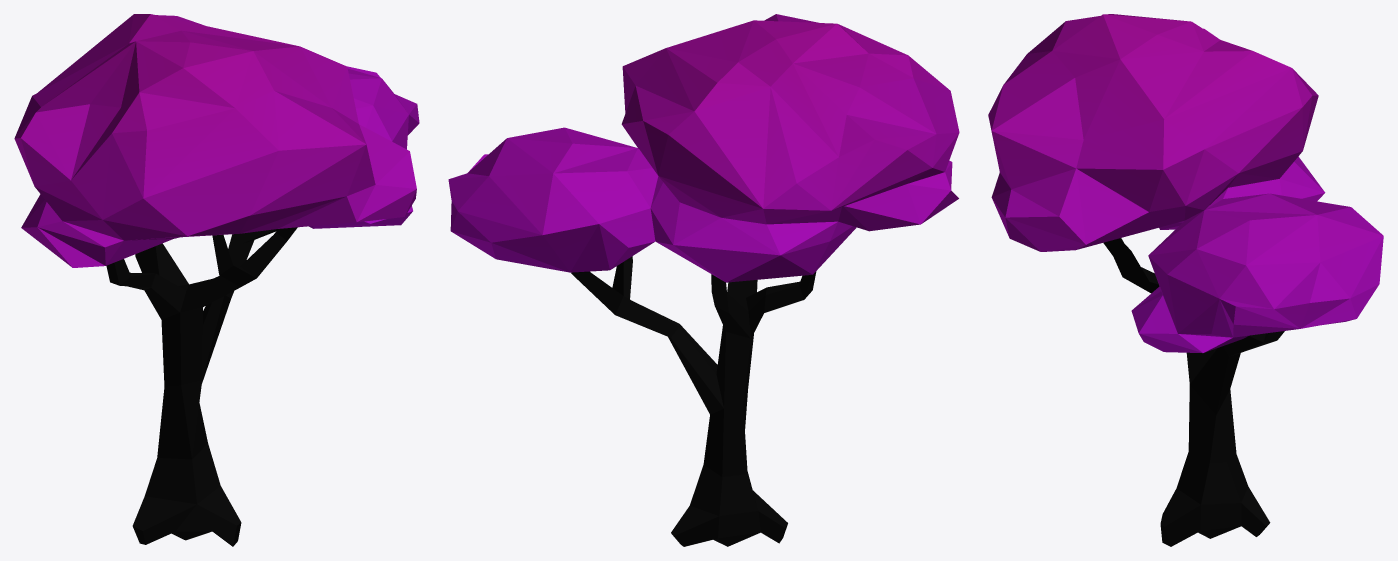
The model's file is SM_Env_Tree_04.glb.
3 views of the same model, side by side, from view 1: azimuth 30°, elevation 25°; view 2: azimuth 150°, elevation 25°; view 3: azimuth 270°, elevation 25° (orthographic). The views are drawn at different scales.
Visible parts, largest first — view 1: SM_Env_Tree_04; view 2: SM_Env_Tree_04; view 3: SM_Env_Tree_04.
Boxes of the visible parts, x1=… form: SM_Env_Tree_04: x1=14, y1=14, x2=419, y2=546; SM_Env_Tree_04: x1=448, y1=14, x2=959, y2=546; SM_Env_Tree_04: x1=988, y1=14, x2=1383, y2=546.
Bounding box in the file's own units: 7.03 × 8.09 × 5.83.
